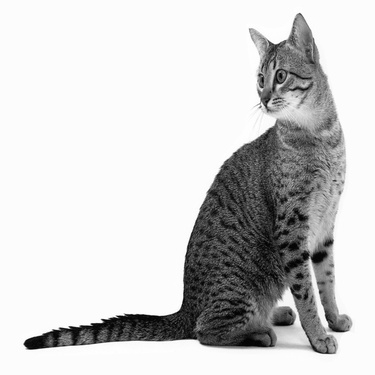cat: (1, 12, 355, 355)
